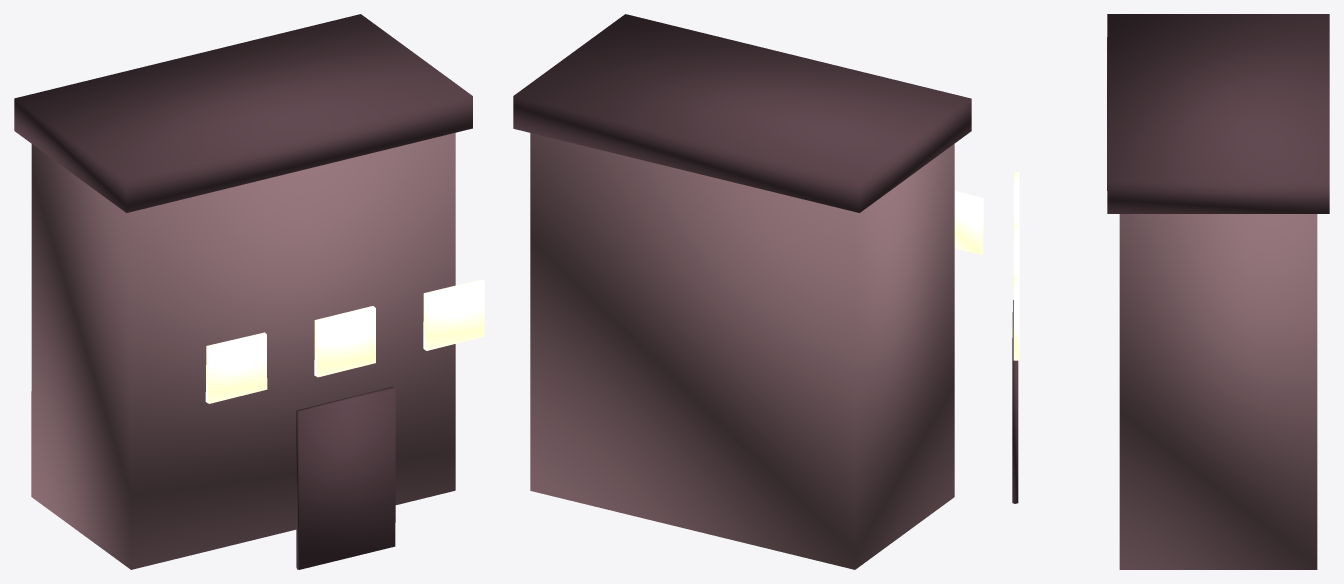
The model's file is SM_Schlachthof_Hall_LOD3.fbx.
The picture shows the model from 3 angles, left to right: view 1: azimuth 30°, elevation 25°; view 2: azimuth 150°, elevation 25°; view 3: azimuth 270°, elevation 25°; orthographic projection.
Visible parts, largest first — view 1: SM_Schlachthof_Hall_LOD3; view 2: SM_Schlachthof_Hall_LOD3; view 3: SM_Schlachthof_Hall_LOD3.
Part boxes in pixels (x1,y1,x2,y2): SM_Schlachthof_Hall_LOD3: (14, 14, 484, 569); SM_Schlachthof_Hall_LOD3: (513, 14, 983, 569); SM_Schlachthof_Hall_LOD3: (1012, 14, 1329, 569).
Size of the model in its own units: 3.19 by 3.49 by 2.55.
